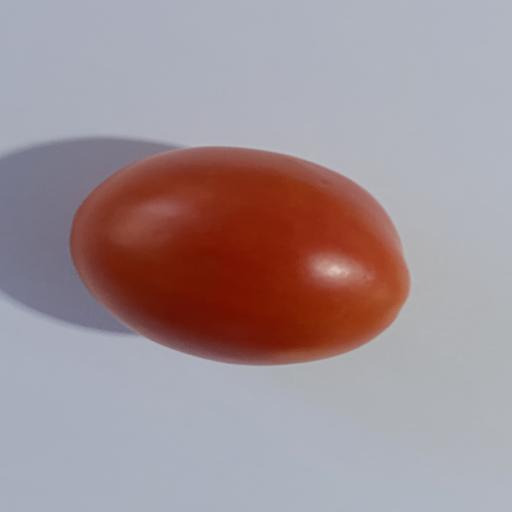ripe: (71, 147, 409, 365)
